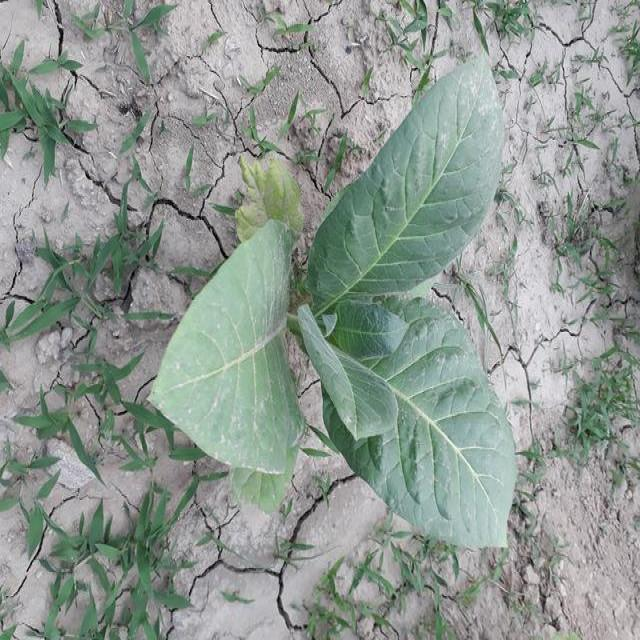crop: (166, 75, 531, 549)
